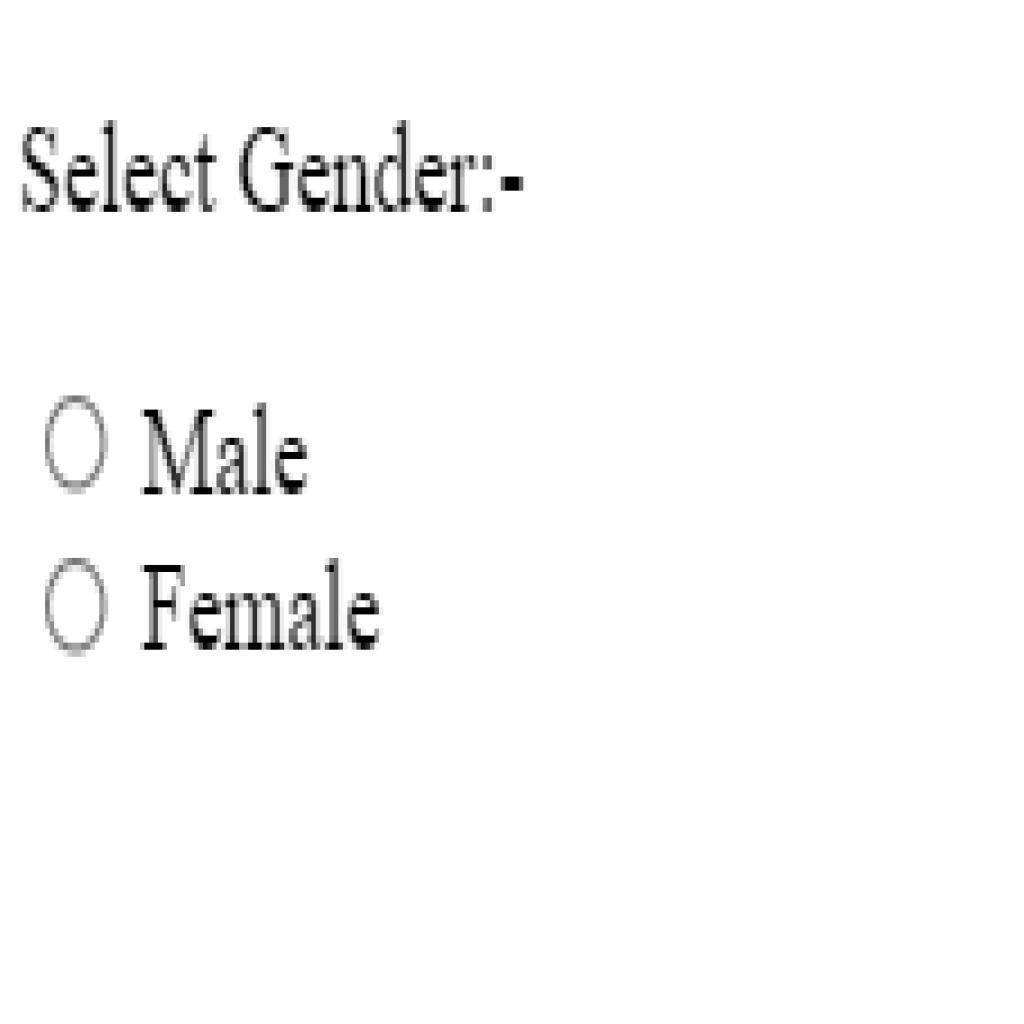label: (141, 557, 391, 665), (134, 397, 325, 509)
radio: (39, 548, 116, 673), (43, 384, 111, 508)
